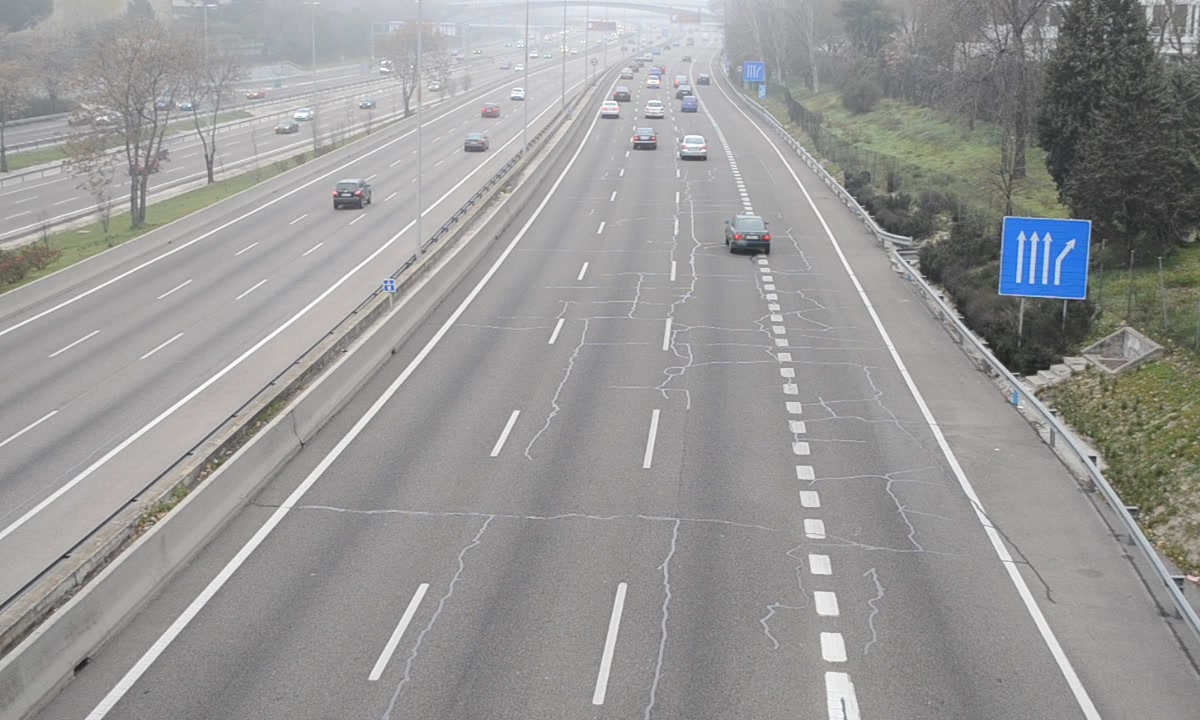car: (725, 214, 772, 252), (679, 134, 709, 162)
